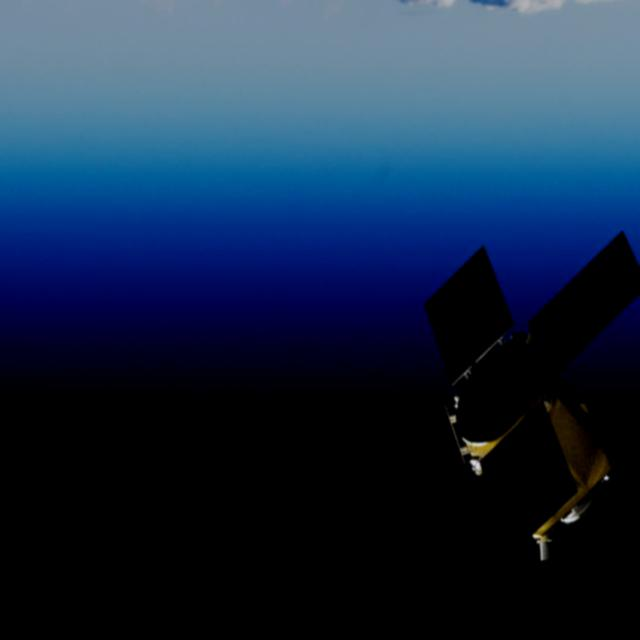satellite: (316, 207, 632, 603)
